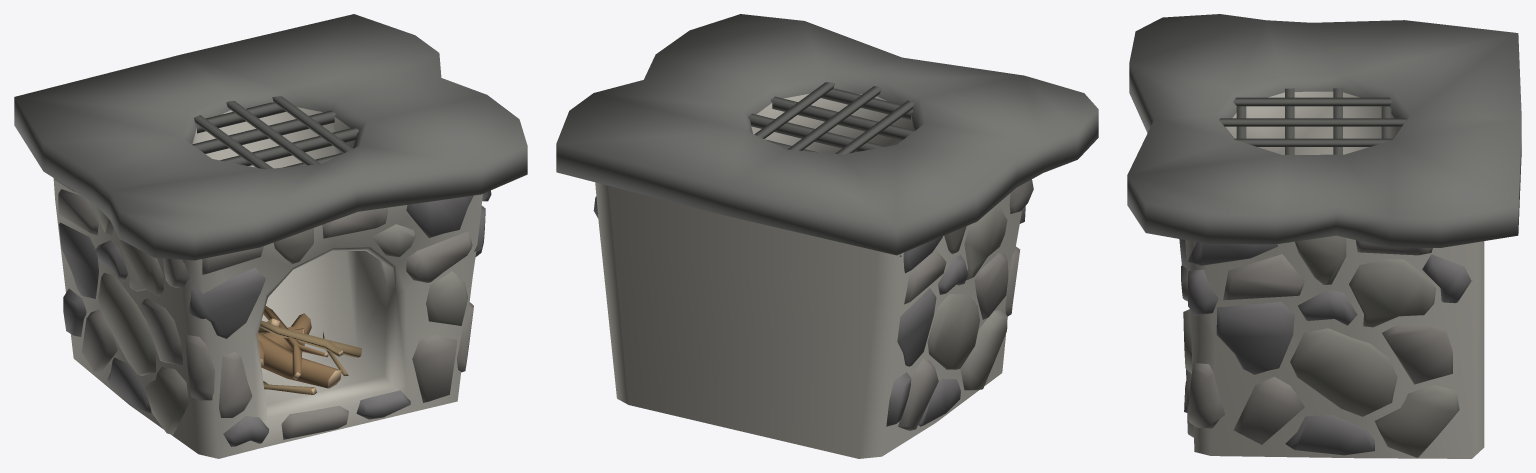
File: rpgpp_ag_stove_01b.fbx
3 views of the same model, side by side, from view 1: azimuth 30°, elevation 25°; view 2: azimuth 150°, elevation 25°; view 3: azimuth 270°, elevation 25° (orthographic). The views are drawn at different scales.
Parts seen in each view (by area): view 1: rpgpp_ag_stove_01b; view 2: rpgpp_ag_stove_01b; view 3: rpgpp_ag_stove_01b.
Part boxes in pixels (x1,y1,x2,y2): rpgpp_ag_stove_01b: [14, 14, 527, 458]; rpgpp_ag_stove_01b: [556, 14, 1098, 458]; rpgpp_ag_stove_01b: [1127, 14, 1521, 458].
Bounding box in the file's own units: 2.74 × 1.71 × 2.24.
